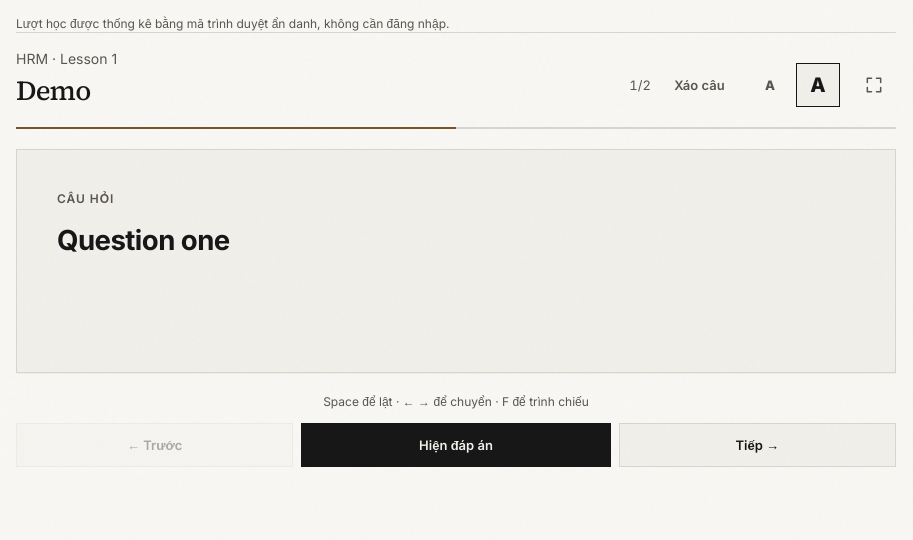
ActiveRecallPlayer › reveals an answer only when requested and resets on navigation
Expected: the text "Question one" is shown, [57,224,230,258]
Expected: the text "Câu hỏi" is shown, [57,192,114,206]
Click the button "Hiện đáp án".
click(456, 446)  # box [301,424,611,468]
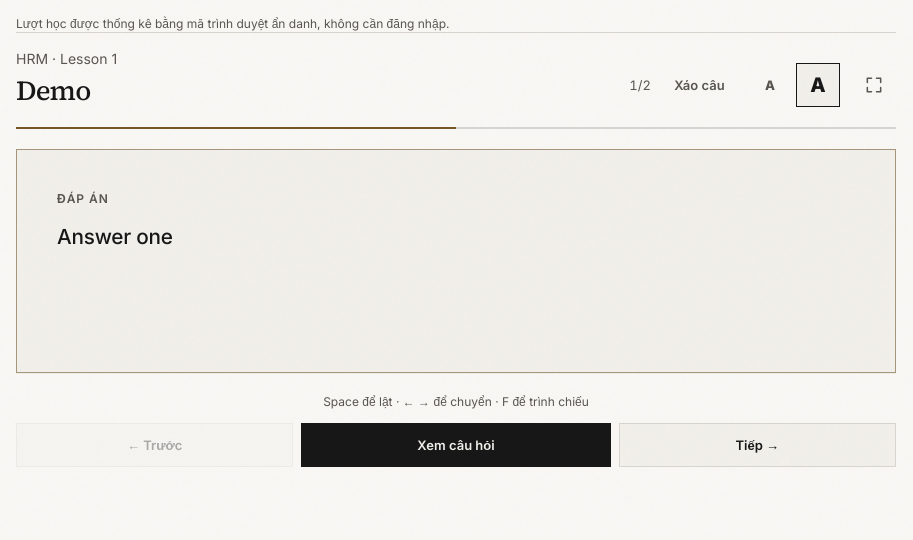
Expected: the text "Answer one" is shown, [57,224,173,250]
Expected: the text "Đáp án" is shown, [57,192,109,206]
Click the button "Tiếp →".
click(757, 446)  # box [619,424,896,468]
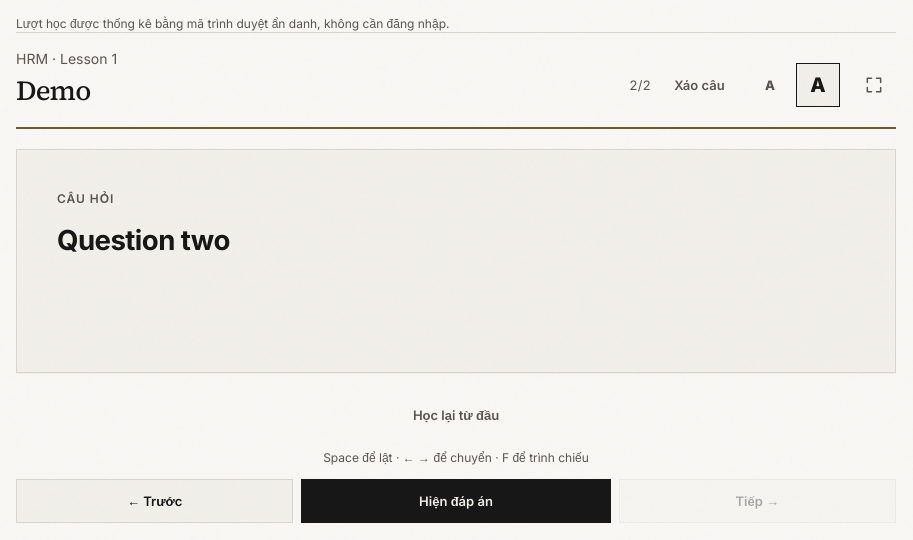
Expected: the text "Question two" is shown, [57,224,230,258]
Expected: the button "Hiện đáp án" is shown, [301,480,611,524]
